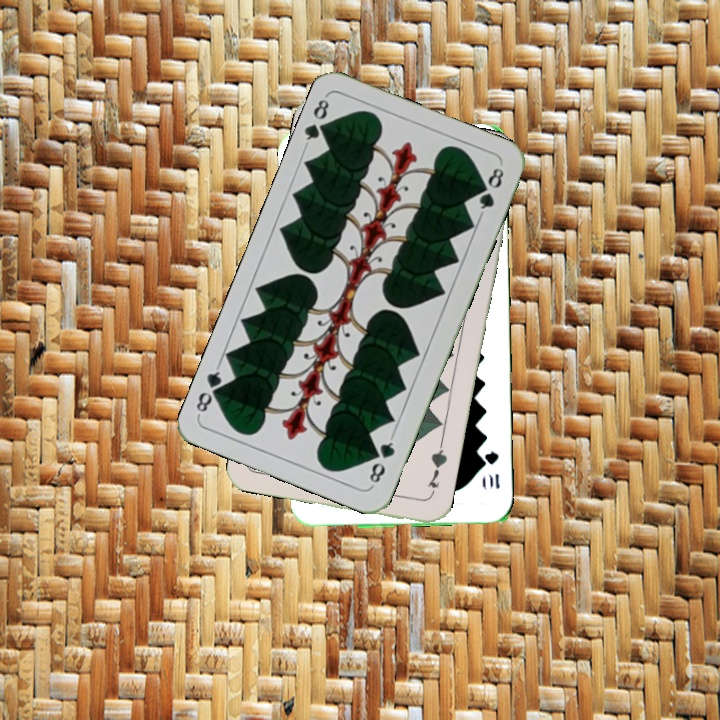G10: (481, 447, 502, 491)
G7: (423, 441, 450, 500)
G8: (300, 92, 335, 149), (365, 432, 398, 489)
